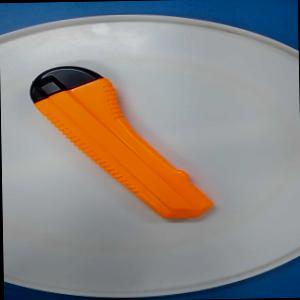estilete: (26, 62, 213, 222)
